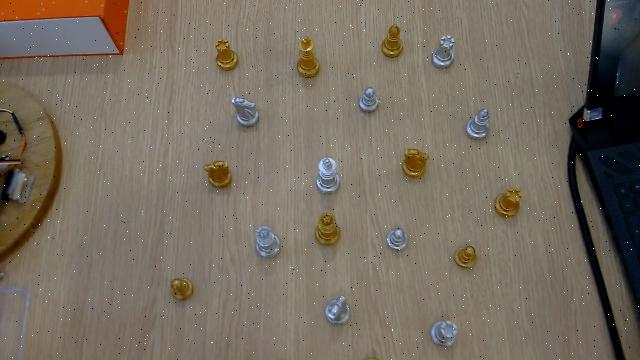black_bishop: (380, 23, 404, 59)
black_king: (294, 33, 322, 81)
black_knight: (399, 146, 431, 182), (203, 158, 233, 191)
black_pawn: (452, 243, 479, 270), (169, 276, 195, 303)
black_queen: (313, 212, 342, 247)
black_rook: (493, 186, 524, 219), (212, 38, 238, 73)
white_bishop: (465, 107, 493, 138)
white_king: (315, 156, 340, 195)
white_knight: (229, 95, 262, 130), (323, 293, 352, 326)
white_pawn: (384, 227, 410, 252), (357, 87, 380, 114)
white_queen: (252, 225, 281, 259)
white_rook: (428, 317, 462, 349), (430, 34, 456, 69)
